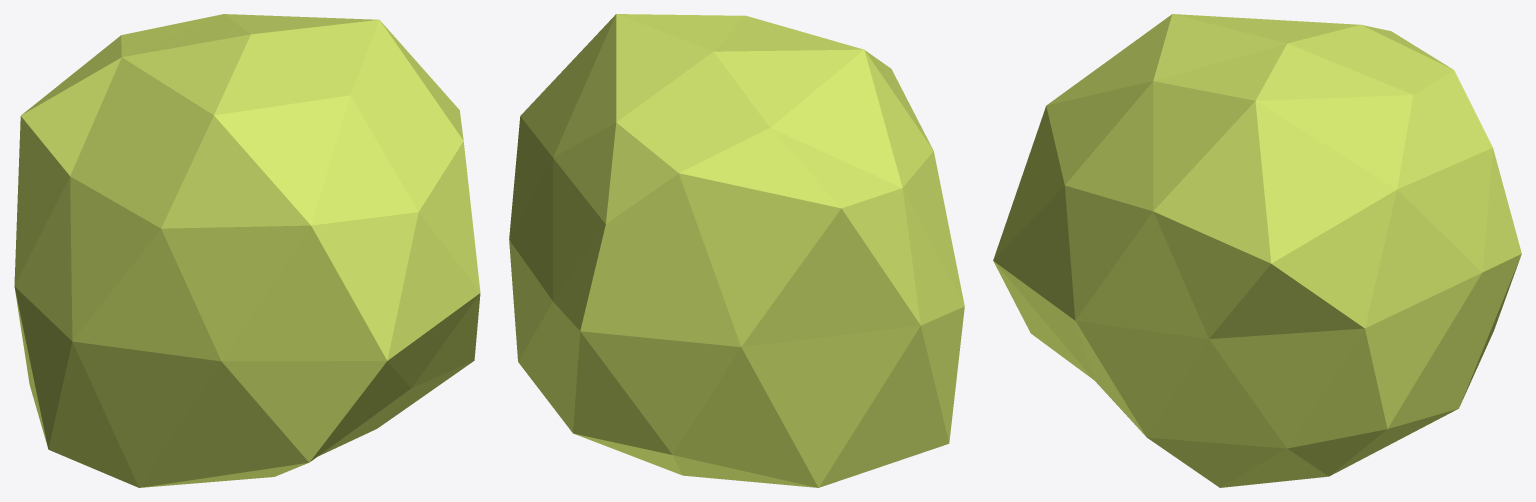
Rendered from feuillage_01.glb.
The picture shows the model from 3 angles, left to right: view 1: azimuth 30°, elevation 25°; view 2: azimuth 150°, elevation 25°; view 3: azimuth 270°, elevation 25°; orthographic projection.
Parts seen in each view (by area): view 1: feuillage_01; view 2: feuillage_01; view 3: feuillage_01.
Part boxes in pixels (x1,y1,x2,y2): feuillage_01: (14, 14, 480, 487); feuillage_01: (509, 14, 964, 487); feuillage_01: (993, 14, 1521, 487).
Bounding box in the file's own units: 1.96 × 1.9 × 2.1.
